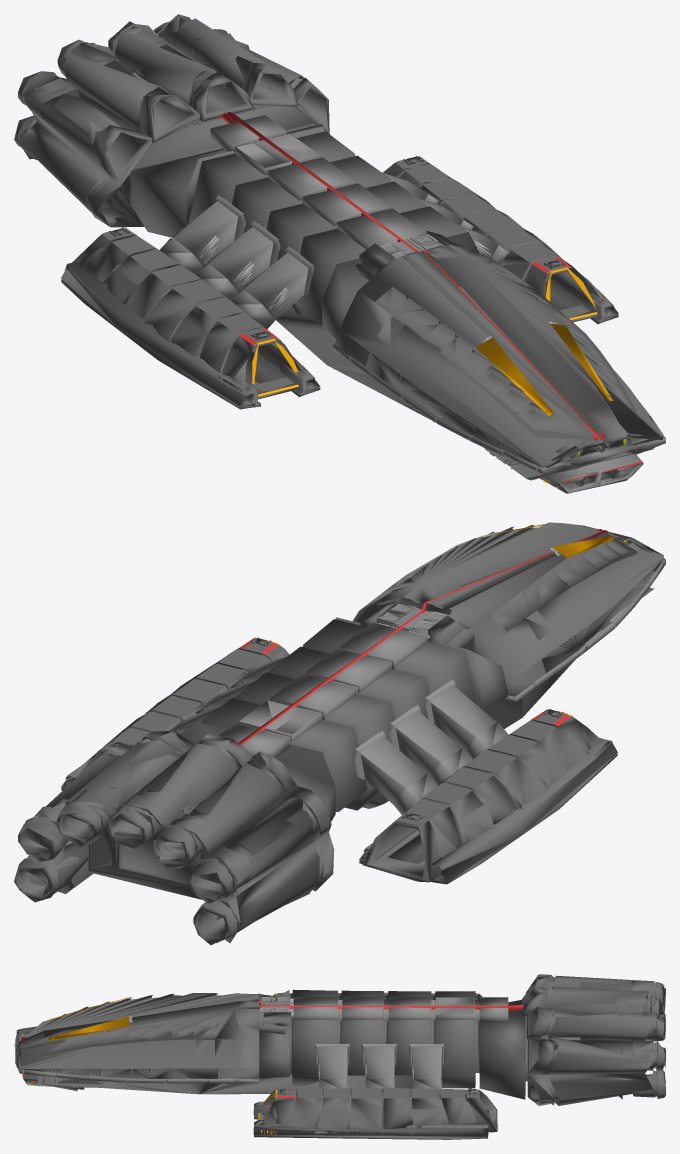
Rendered from Battlestar_Titan_WithoutCannonAndLight_AlmostOriginalLow.fbx.
3 renders of one model, top to bottom at view 1: azimuth 30°, elevation 25°; view 2: azimuth 150°, elevation 25°; view 3: azimuth 270°, elevation 25°, orthographic. The views are drawn at different scales.
Parts seen in each view (by area): view 1: Titan BSG Low Far; view 2: Titan BSG Low Far; view 3: Titan BSG Low Far.
Part boxes in pixels (<box>): Titan BSG Low Far: <box>14,14,665,493</box>; Titan BSG Low Far: <box>14,522,665,945</box>; Titan BSG Low Far: <box>14,974,665,1139</box>.
Size of the model in its own units: 1429 by 461 by 3011.
